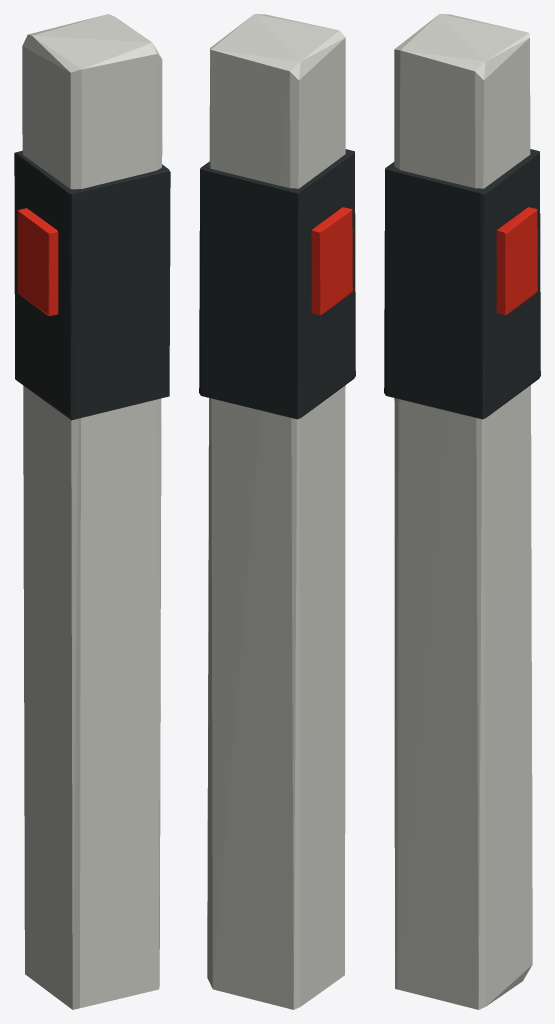
File: RoadReflector.glb
3 views of the same model, side by side, from view 1: azimuth 30°, elevation 25°; view 2: azimuth 150°, elevation 25°; view 3: azimuth 330°, elevation 25° (orthographic).
Parts seen in each view (by area): view 1: RoadReflector_Road_Furniture_White, RoadReflector_Road_Furniture_Black, RoadReflector_Road_Red_Reflector; view 2: RoadReflector_Road_Furniture_White, RoadReflector_Road_Furniture_Black, RoadReflector_Road_Red_Reflector; view 3: RoadReflector_Road_Furniture_White, RoadReflector_Road_Furniture_Black, RoadReflector_Road_Red_Reflector.
Part boxes in pixels (bbox=[...]): RoadReflector_Road_Furniture_White: bbox=[22, 14, 162, 1009]; RoadReflector_Road_Furniture_Black: bbox=[14, 150, 170, 420]; RoadReflector_Road_Red_Reflector: bbox=[17, 208, 58, 316]; RoadReflector_Road_Furniture_White: bbox=[207, 14, 345, 1009]; RoadReflector_Road_Furniture_Black: bbox=[199, 149, 355, 419]; RoadReflector_Road_Red_Reflector: bbox=[311, 207, 352, 315]; RoadReflector_Road_Furniture_White: bbox=[394, 14, 532, 1009]; RoadReflector_Road_Furniture_Black: bbox=[384, 149, 540, 419]; RoadReflector_Road_Red_Reflector: bbox=[496, 207, 537, 315].
Size of the model in its own units: 0.1468 by 1.11 by 0.1237.
